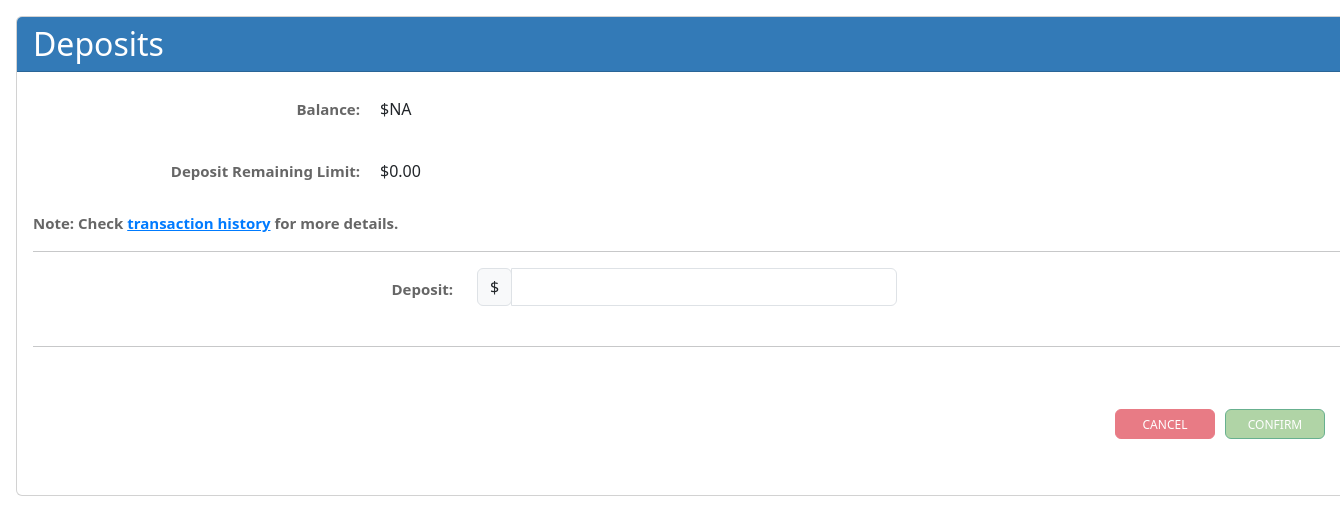
Test case: Deposits Component › should return to default UI state when user input deposit amount and clicks cancel
Type "100" into the field labelled "Deposit:" at (704, 287), box [511, 268, 897, 306]
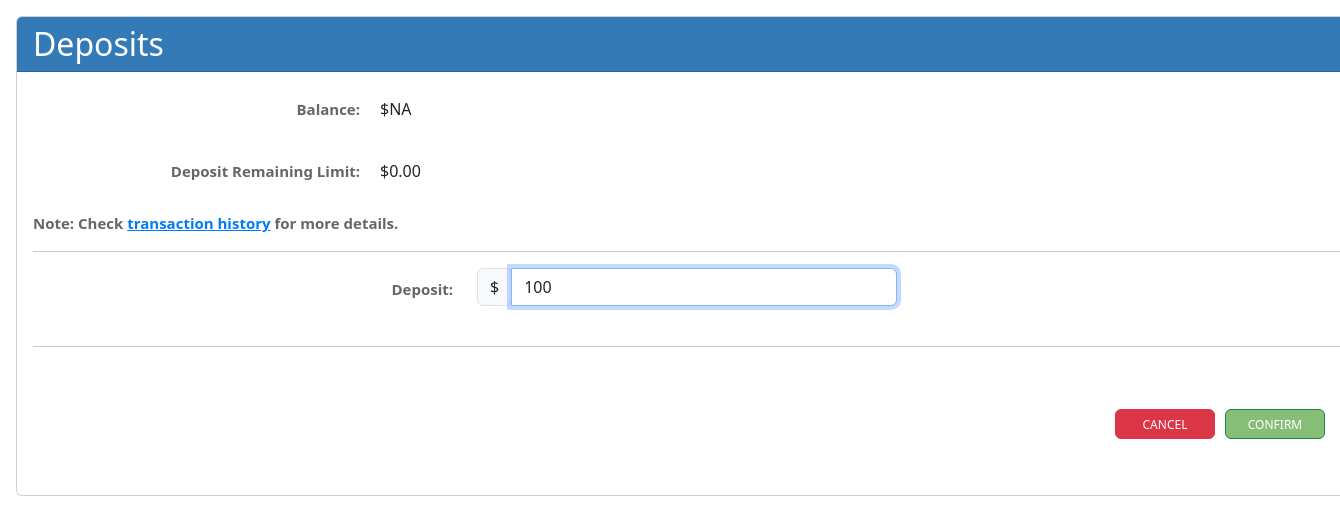
Click the button "Cancel" at (1165, 424), box [1115, 409, 1215, 439]
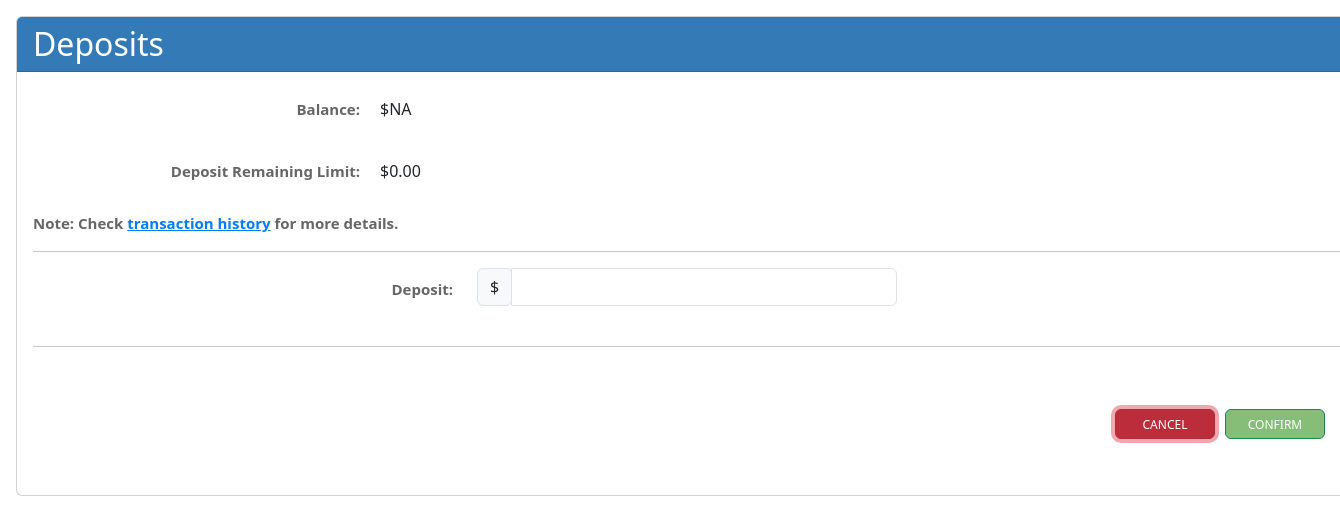
Result: the field labelled "Deposit:" is empty at [511, 268, 897, 306]
